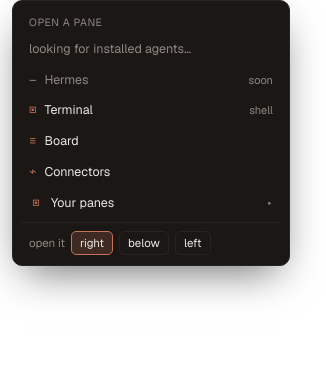
Test case: importing and exporting from the screen › a team's bundle is installed as a draft through the install op
The image size is (326, 379).
Click the menu item with test id "pick-free-menu" at [83, 202], box left=21, top=188, right=281, bottom=218
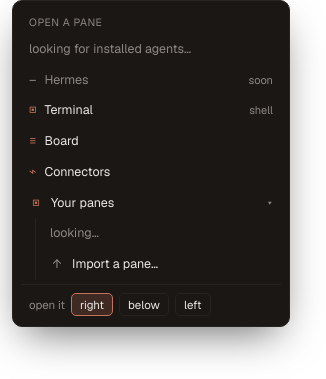
Expected: the menu item with test id "free-import" is shown, left=42, top=249, right=281, bottom=280
